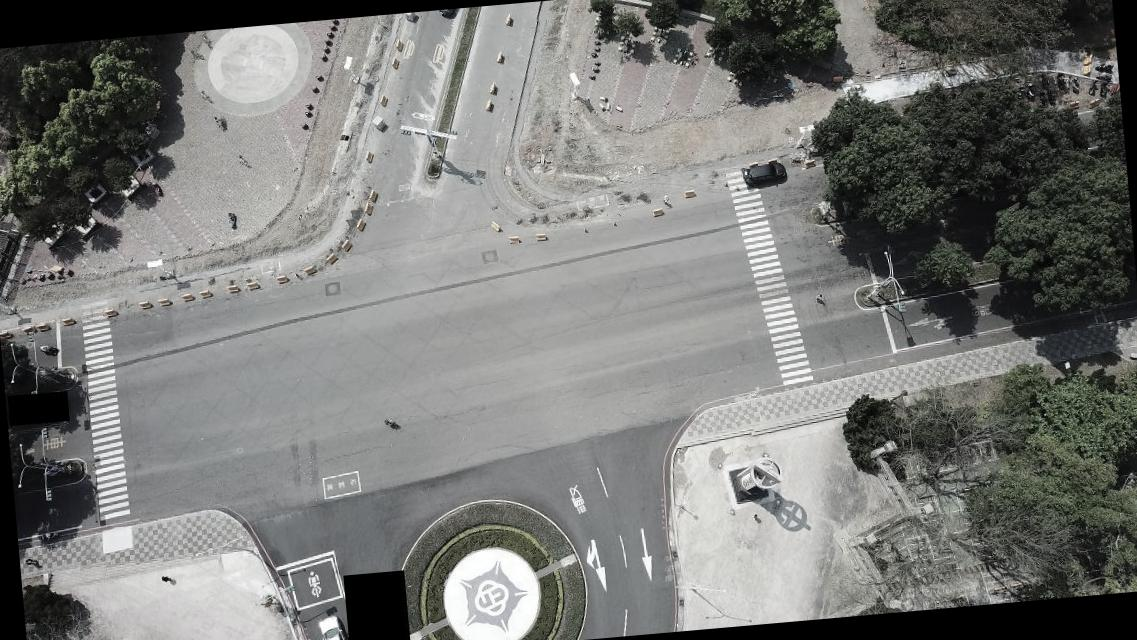vehicle: (740, 160, 787, 188), (316, 612, 353, 639)
